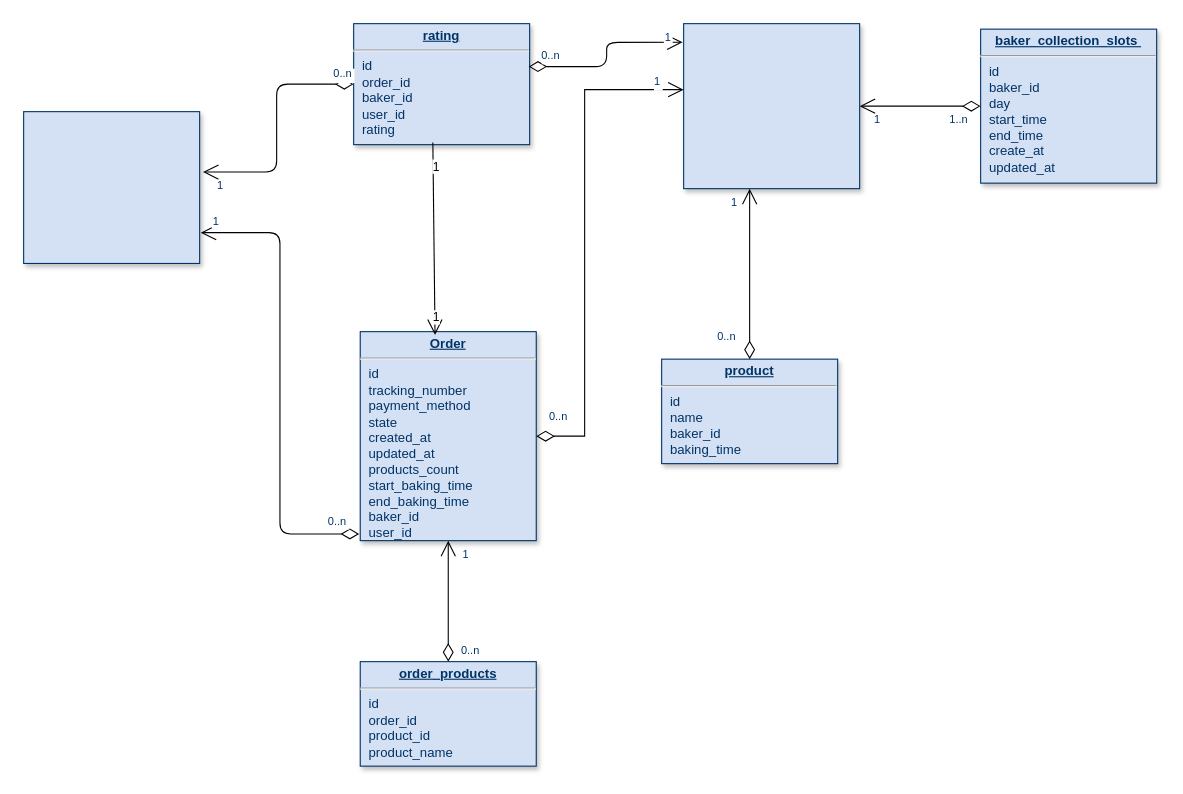
This 1183x794 diagram has some shape labels left out. Each missing label, with the centre of its shape:
baker id name location email password created_at updated_at rating: [772,107]
user id name email hashed_password latest_l ocation created_at updated_at: [112,188]
